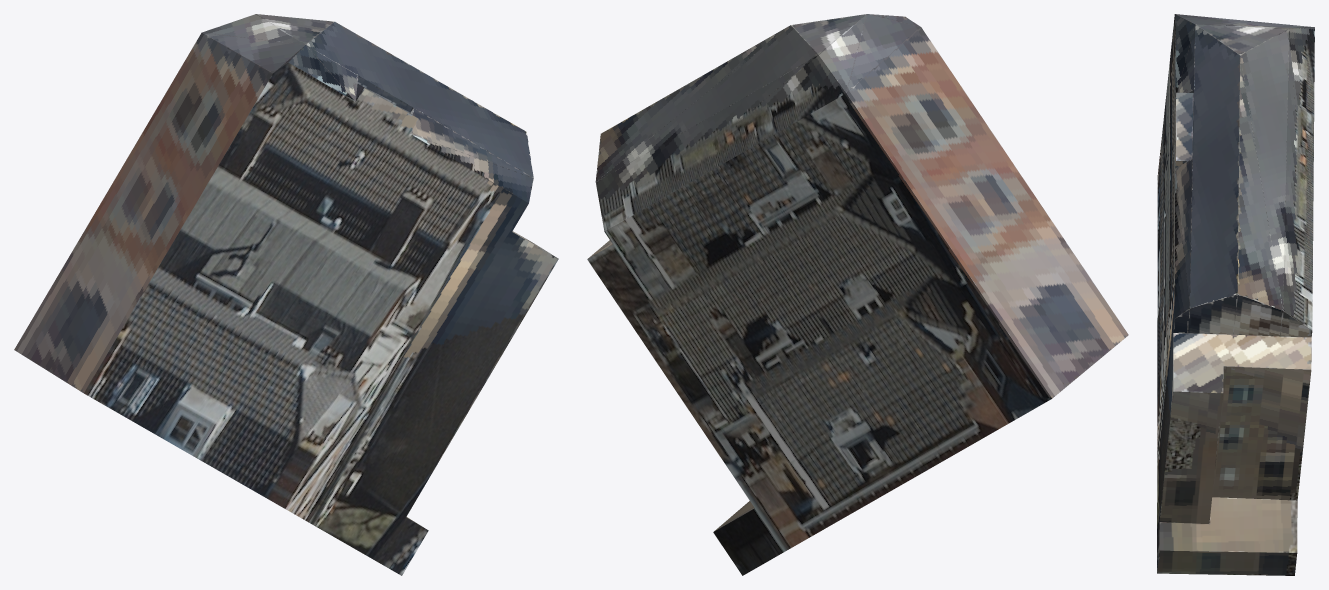
3 renders of one model, left to right at view 1: azimuth 30°, elevation 25°; view 2: azimuth 150°, elevation 25°; view 3: azimuth 270°, elevation 25°, orthographic. The views are drawn at different scales.
Parts seen in each view (by area): view 1: BAG_0599100000671708 (×4); view 2: BAG_0599100000671708 (×3); view 3: BAG_0599100000671708 (×4).
Boxes of the visible parts, x1,y1,x2,y2 form: BAG_0599100000671708 (×4): [14, 14, 558, 575]; BAG_0599100000671708 (×3): [587, 14, 1128, 575]; BAG_0599100000671708 (×4): [1157, 14, 1314, 575].
Bounding box in the file's own units: 19.11 × 20.34 × 5.62.
4 materials, 4 textured.
